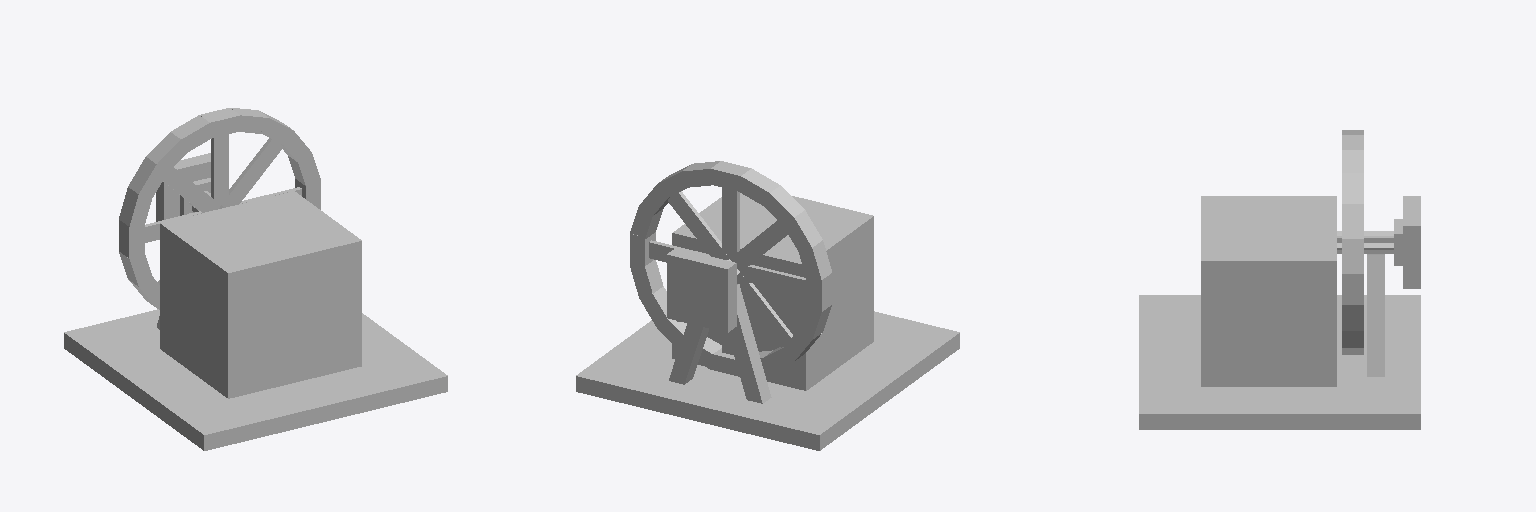
File: spinning_wheel.obj
The picture shows the model from 3 angles: view 1: azimuth 30°, elevation 25°; view 2: azimuth 150°, elevation 25°; view 3: azimuth 270°, elevation 25°; orthographic projection.
Visible parts, largest first — view 1: base, wheel; view 2: base, wheel; view 3: base, wheel.
Boxes of the visible parts, x1=… form: base: x1=64, y1=191, x2=447, y2=450; wheel: x1=119, y1=108, x2=320, y2=309; base: x1=576, y1=193, x2=959, y2=450; wheel: x1=630, y1=161, x2=831, y2=376; base: x1=1139, y1=196, x2=1420, y2=429; wheel: x1=1337, y1=130, x2=1420, y2=354.
Size of the model in its own units: 1 by 0.8941 by 1.